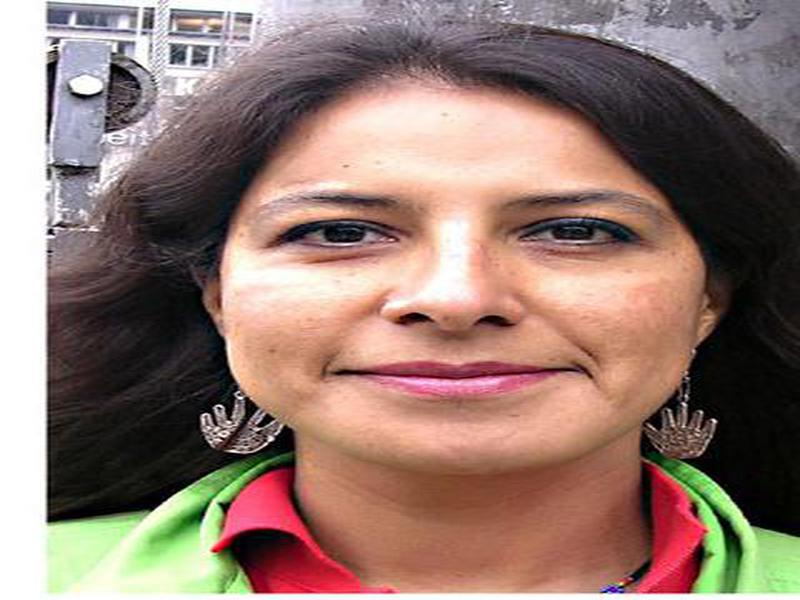without_mask: (223, 142, 691, 470)
